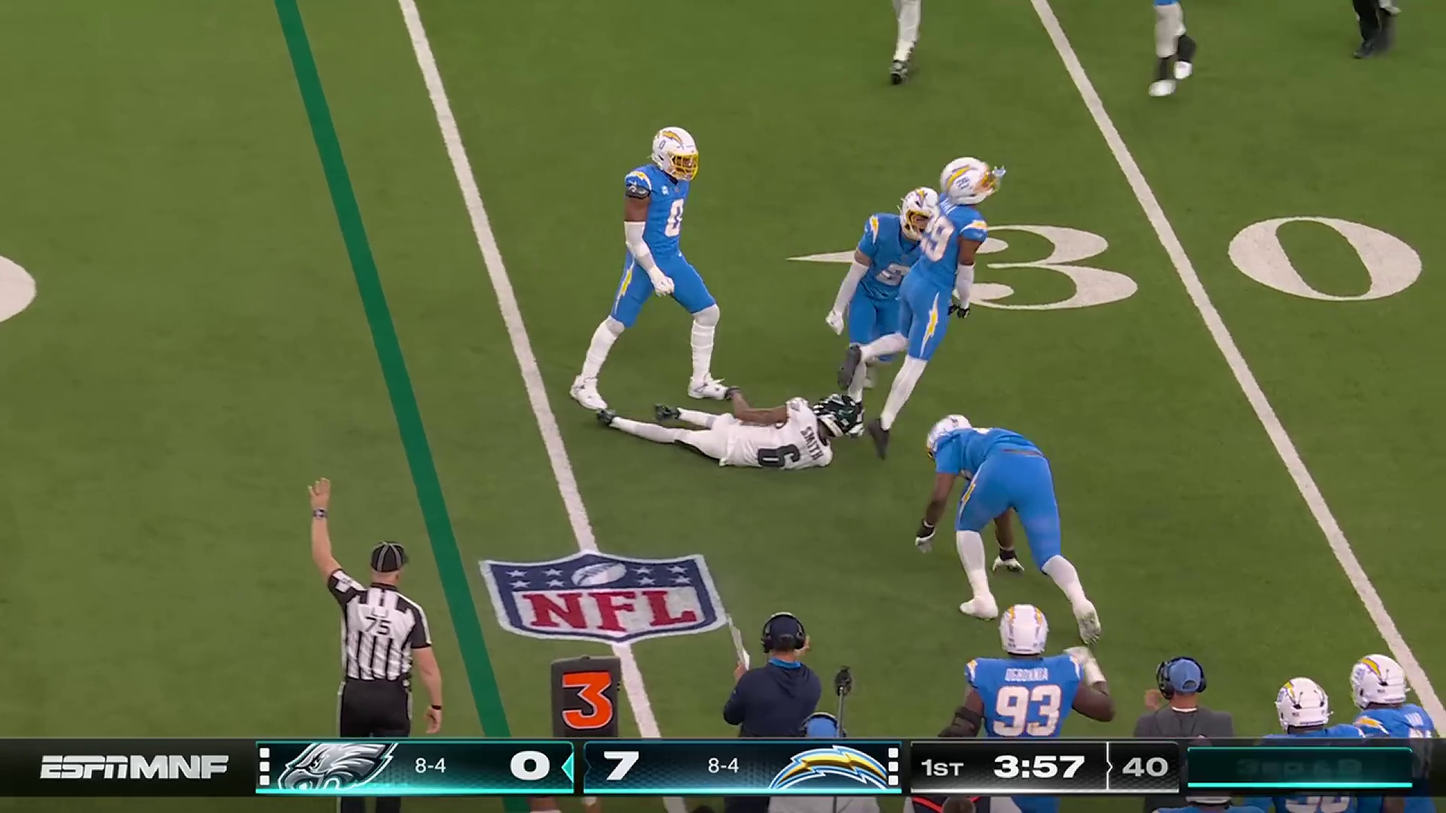player: (924, 411, 1107, 634), (597, 112, 719, 415), (617, 377, 864, 476), (914, 170, 1005, 425), (844, 185, 921, 396), (1150, 0, 1200, 107), (884, 0, 926, 84)
